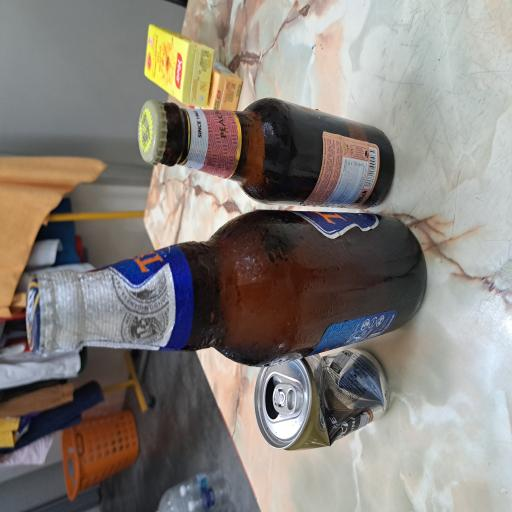can: (45, 338, 125, 512)
drink carton: (304, 190, 366, 286), (300, 252, 339, 325)
glass bottle: (111, 32, 225, 512), (227, 182, 312, 512)
